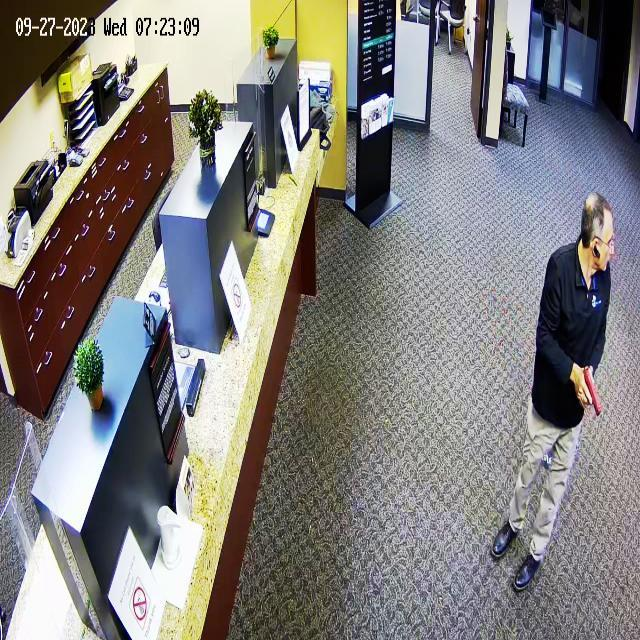Gun: (571, 354, 611, 424)
